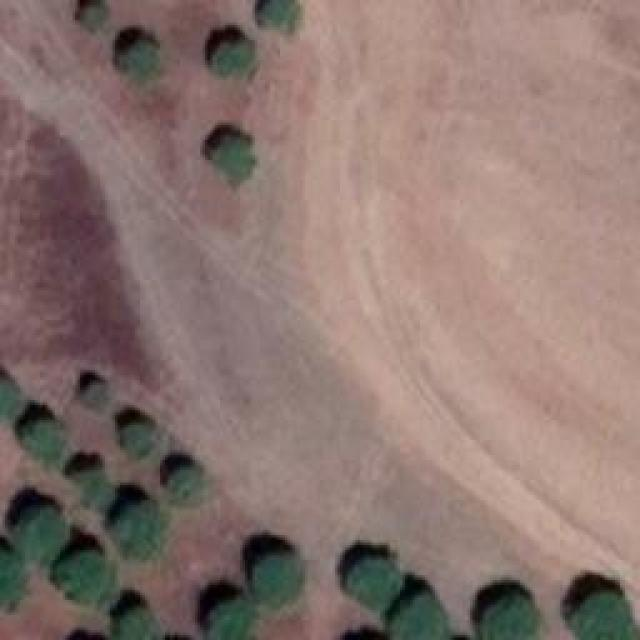Tree: (248, 553, 308, 608), (568, 592, 633, 640), (60, 550, 113, 608), (18, 505, 73, 555), (115, 498, 160, 558), (398, 595, 451, 640), (485, 597, 540, 640), (17, 420, 65, 463), (350, 560, 395, 605), (210, 38, 253, 83), (208, 600, 253, 640), (165, 465, 210, 503), (117, 38, 155, 78), (215, 135, 250, 178), (115, 607, 160, 640), (67, 465, 105, 500), (0, 550, 25, 600), (260, 0, 297, 32), (118, 423, 153, 456), (0, 375, 20, 423), (80, 382, 110, 410), (80, 2, 108, 30)
